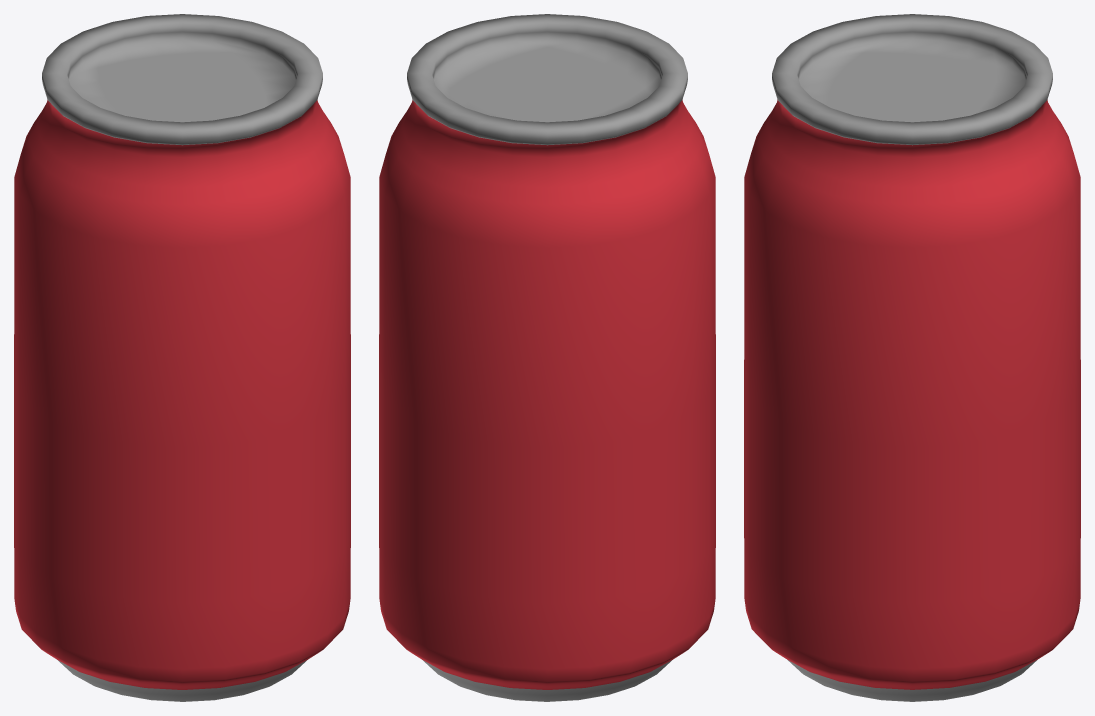
File: Kaleng1.fbx
The picture shows the model from 3 angles, left to right: view 1: azimuth 30°, elevation 25°; view 2: azimuth 150°, elevation 25°; view 3: azimuth 270°, elevation 25°; orthographic projection.
Visible parts, largest first — view 1: Kaleng1; view 2: Kaleng1; view 3: Kaleng1.
Part boxes in pixels (x1=…): Kaleng1: x1=14, y1=14, x2=350, y2=701; Kaleng1: x1=379, y1=14, x2=715, y2=701; Kaleng1: x1=744, y1=14, x2=1080, y2=701.
Size of the model in its own units: 3.14 by 5.96 by 3.14.
